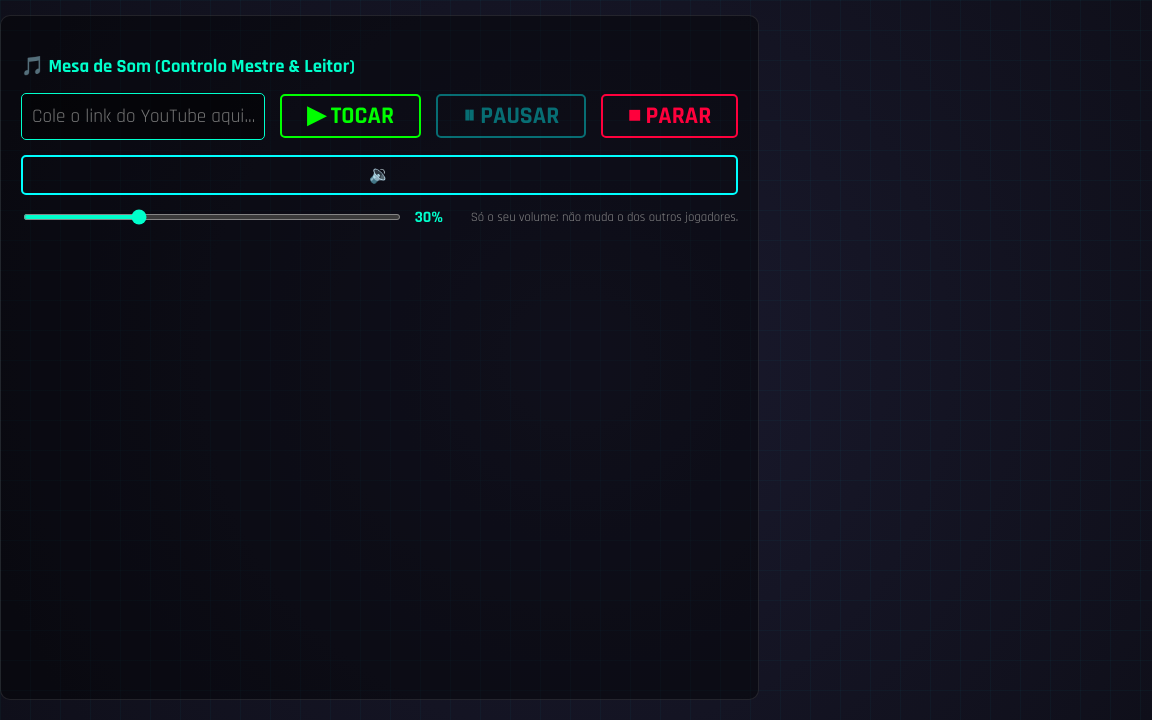
Test: Jukebox - volume › botao de mudo zera e restaura para 60
This screenshot has width=1152, height=720.
Step 1. Click the button named "Silenciar a música" → coordinates (380, 175), box [21, 155, 738, 195]
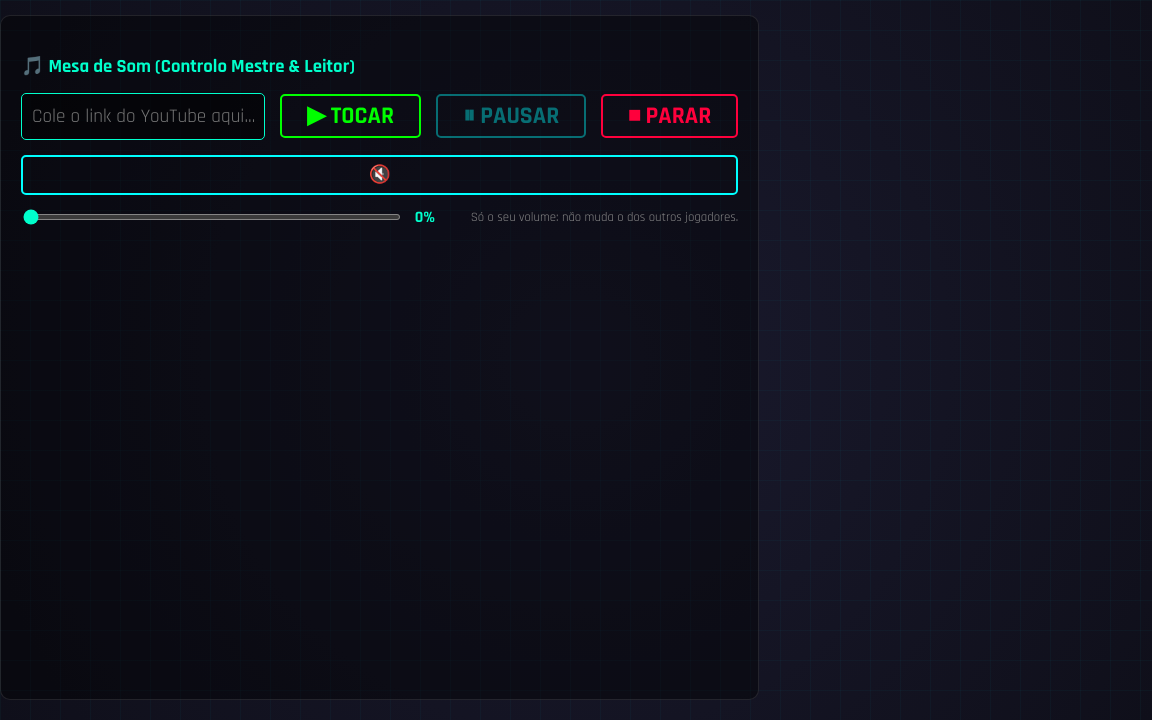
Expected: the text "0%" is shown, [415, 207, 435, 228]
Expected: the slider named "Volume da música" holds "0", [23, 214, 401, 220]
Step 2. Click the button named "Ativar o som da música" → coordinates (380, 175), box [21, 155, 738, 195]
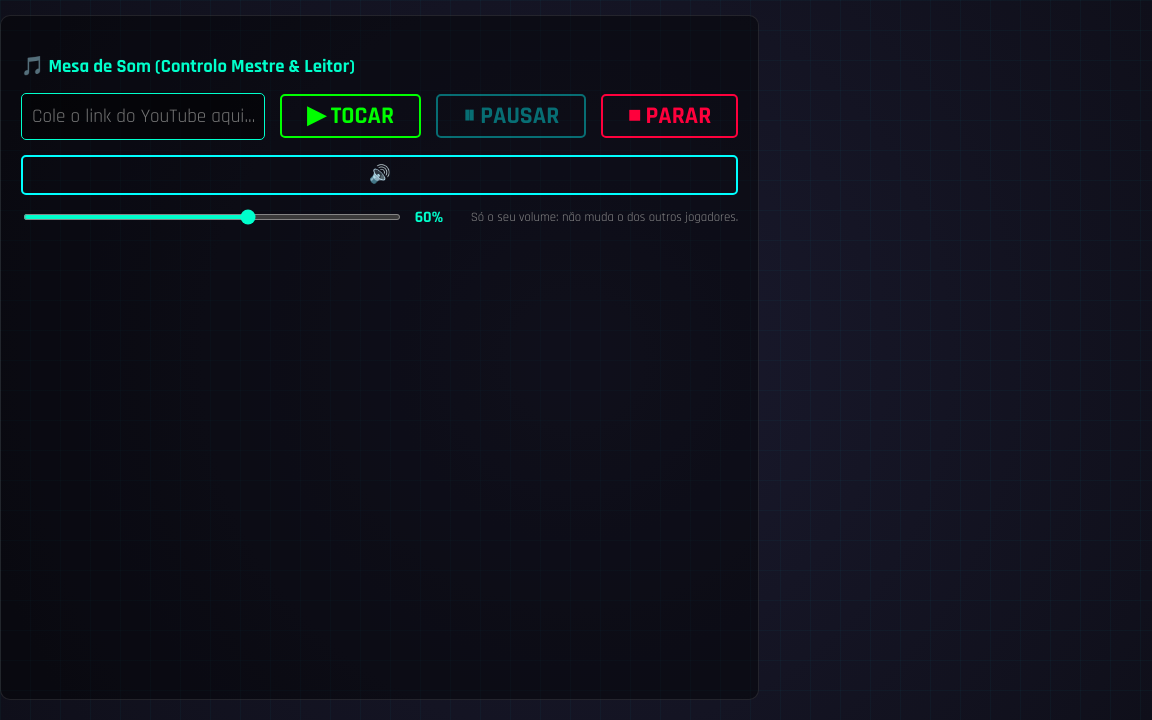
Expected: the slider named "Volume da música" holds "60", [23, 214, 401, 220]
